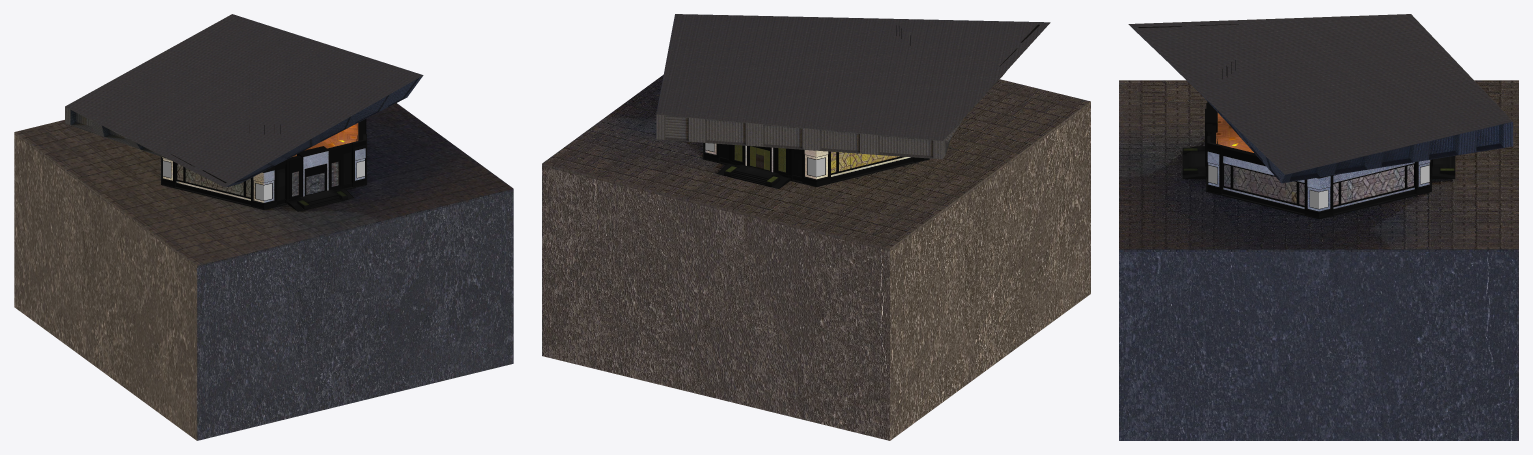
Rendered from yayz.glb.
3 views of the same model, side by side, from view 1: azimuth 30°, elevation 25°; view 2: azimuth 150°, elevation 25°; view 3: azimuth 270°, elevation 25° (orthographic). The views are drawn at different scales.
Visible parts, largest first — view 1: GROUND.002, BUBONG.001, GROUND.001, BAKAL-WALL.001, WALL.001, WINDOW_GLASS.002, DOOR.001, KISAME.001, SIDE-GLASS.001; view 2: GROUND.002, BUBONG.001, GROUND.001, BAKAL-WALL.001, WINDOW_GLASS.002, DOOR.001, WALL.001; view 3: GROUND.002, BUBONG.001, GROUND.001, BAKAL-WALL.001, WINDOW_GLASS.002, WALL.001, SIDE-GLASS.001, KISAME.001.
Boxes of the visible parts, left/top/right/bottom form: GROUND.002: left=14, top=135, right=513, bottom=440; BUBONG.001: left=65, top=14, right=423, bottom=187; GROUND.001: left=14, top=103, right=513, bottom=268; BAKAL-WALL.001: left=161, top=119, right=366, bottom=211; WALL.001: left=162, top=148, right=365, bottom=202; WINDOW_GLASS.002: left=177, top=163, right=250, bottom=197; DOOR.001: left=292, top=161, right=338, bottom=196; KISAME.001: left=292, top=123, right=358, bottom=156; SIDE-GLASS.001: left=163, top=161, right=364, bottom=200; GROUND.002: left=542, top=104, right=1090, bottom=440; BUBONG.001: left=656, top=14, right=1050, bottom=159; GROUND.001: left=542, top=75, right=1090, bottom=250; BAKAL-WALL.001: left=703, top=143, right=929, bottom=188; WINDOW_GLASS.002: left=831, top=151, right=899, bottom=173; DOOR.001: left=734, top=145, right=785, bottom=172; WALL.001: left=705, top=143, right=910, bottom=179; GROUND.002: left=1119, top=252, right=1518, bottom=440; BUBONG.001: left=1128, top=14, right=1513, bottom=183; GROUND.001: left=1119, top=80, right=1518, bottom=251; BAKAL-WALL.001: left=1182, top=101, right=1455, bottom=218; WINDOW_GLASS.002: left=1224, top=164, right=1413, bottom=205; WALL.001: left=1207, top=151, right=1430, bottom=211; SIDE-GLASS.001: left=1208, top=165, right=1429, bottom=208; KISAME.001: left=1216, top=113, right=1253, bottom=152.
Bounding box in the file's own units: 64.45 × 48.57 × 64.45.
26 materials, 17 textured.
